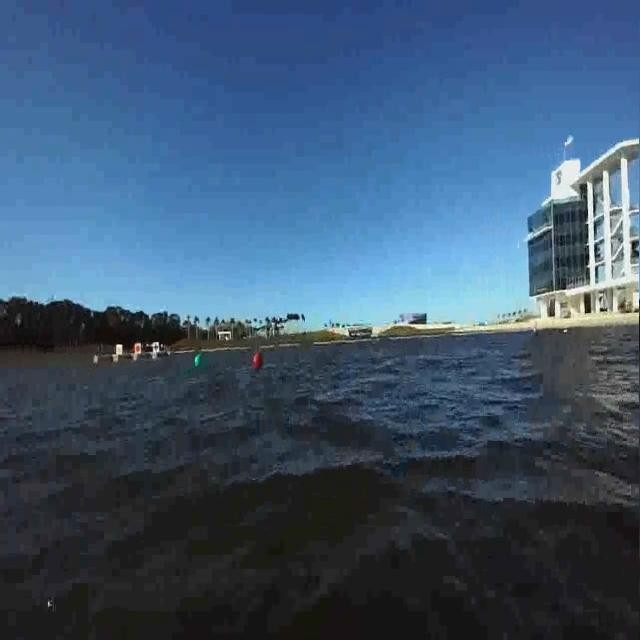green-buoy: (193, 353, 204, 369)
red-buoy: (252, 352, 264, 370)
